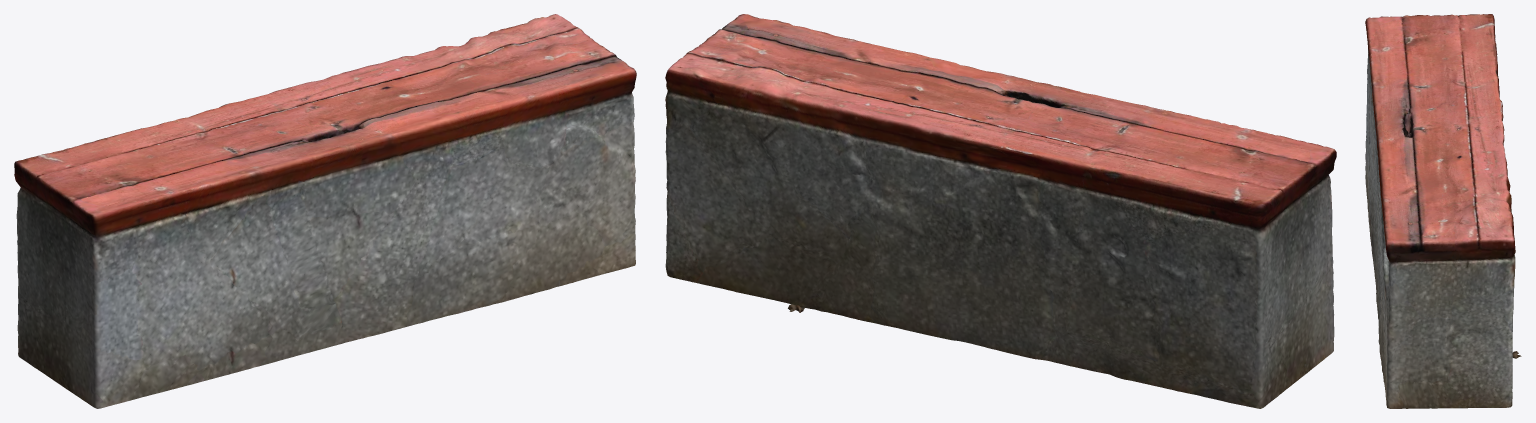
3 views of the same model, side by side, from view 1: azimuth 30°, elevation 25°; view 2: azimuth 150°, elevation 25°; view 3: azimuth 270°, elevation 25° (orthographic). The views are drawn at different scales.
Parts seen in each view (by area): view 1: model; view 2: model; view 3: model.
Part boxes in pixels (x1=…): model: x1=14, y1=14, x2=636, y2=408; model: x1=665, y1=14, x2=1336, y2=408; model: x1=1365, y1=14, x2=1521, y2=408.
Size of the model in its own units: 1.53 by 0.5236 by 0.4385.
1 material, 1 textured.
